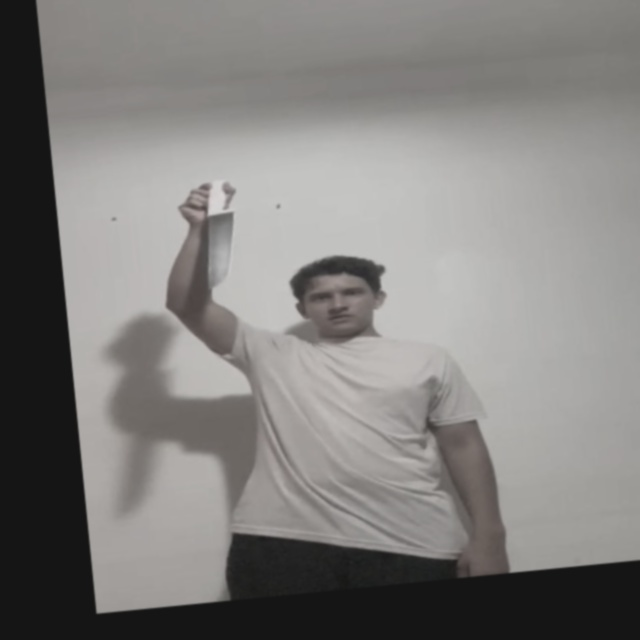Sharp-Object: (200, 211, 236, 285)
